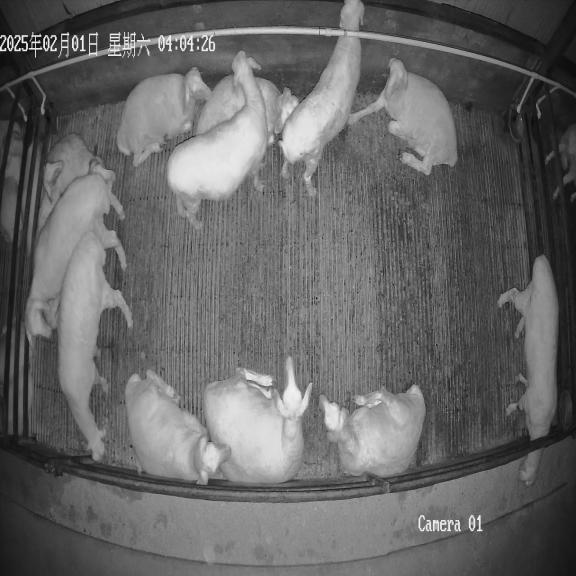eating: (497, 255, 559, 486)
lying: (203, 357, 312, 483), (347, 58, 457, 175), (125, 370, 231, 485), (319, 385, 425, 478), (116, 68, 212, 167), (194, 66, 298, 145), (47, 134, 114, 190), (36, 160, 64, 234)
stand: (167, 52, 269, 229), (56, 226, 133, 460), (278, 0, 364, 196), (25, 172, 125, 337)
